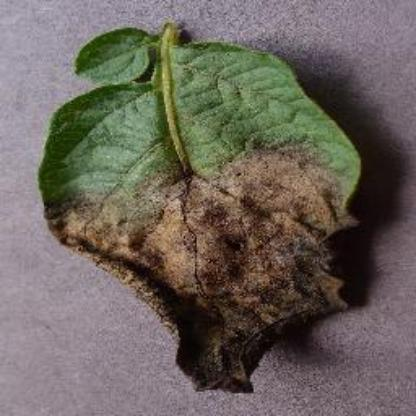Late-Blight: (24, 13, 380, 404)
